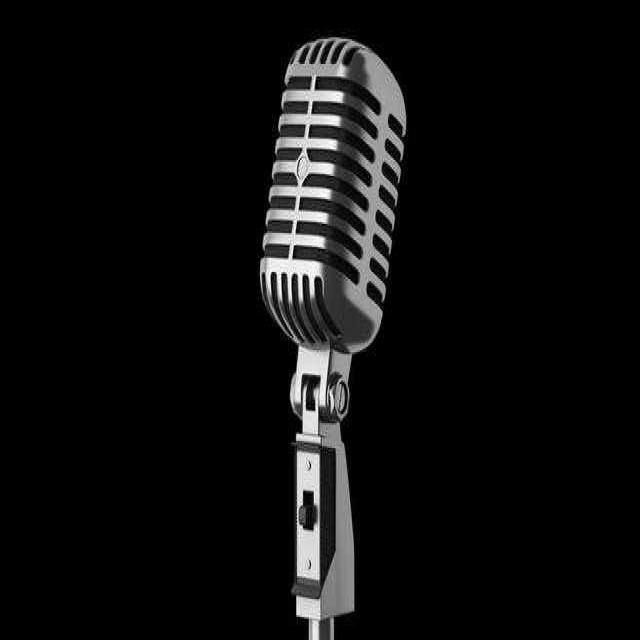microphone: (260, 41, 406, 634)
